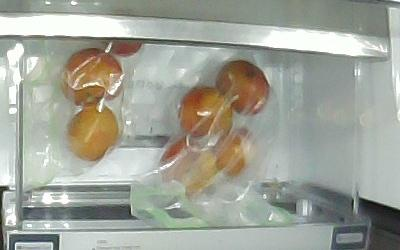prune_vinyl: (61, 48, 123, 104), (159, 138, 217, 194), (67, 102, 118, 161), (216, 59, 269, 115), (179, 87, 233, 136), (212, 127, 258, 177), (102, 41, 144, 57)
